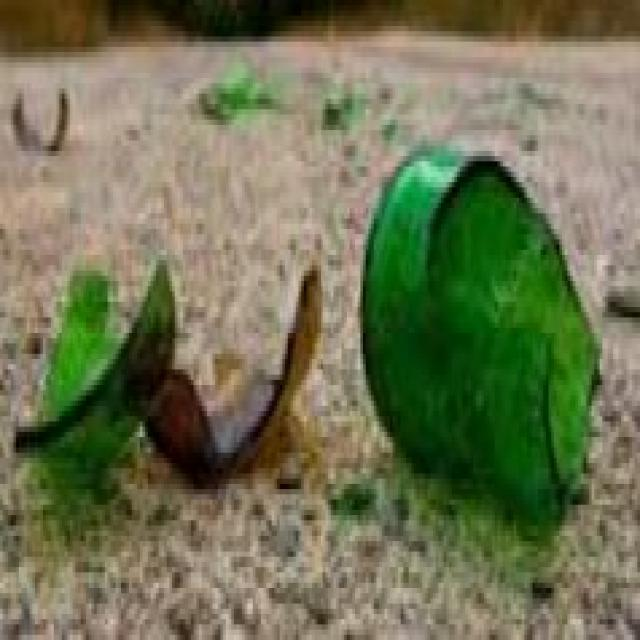electronic: (359, 139, 602, 550), (126, 263, 324, 494), (11, 260, 175, 499)
